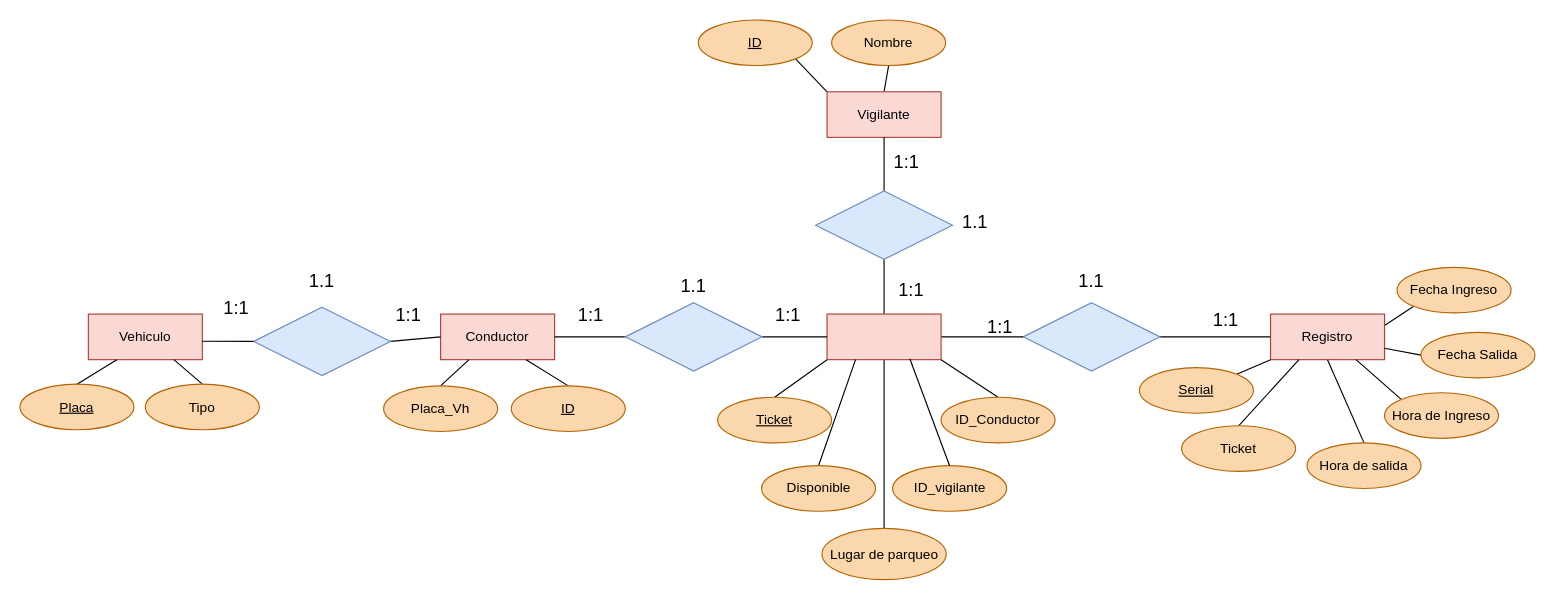
Image size: 1555x600. Some labels were removed from this diagram. The shapes that lost their labels are listed below. From the top down, each one's box as (x1, y1, x2, y2) in pixels, then its label:
(815, 190, 952, 259): Cuida
(253, 306, 390, 376): Conduce
(624, 302, 762, 371): Usa
(826, 313, 941, 360): Parking
(1022, 302, 1160, 371): tiene
